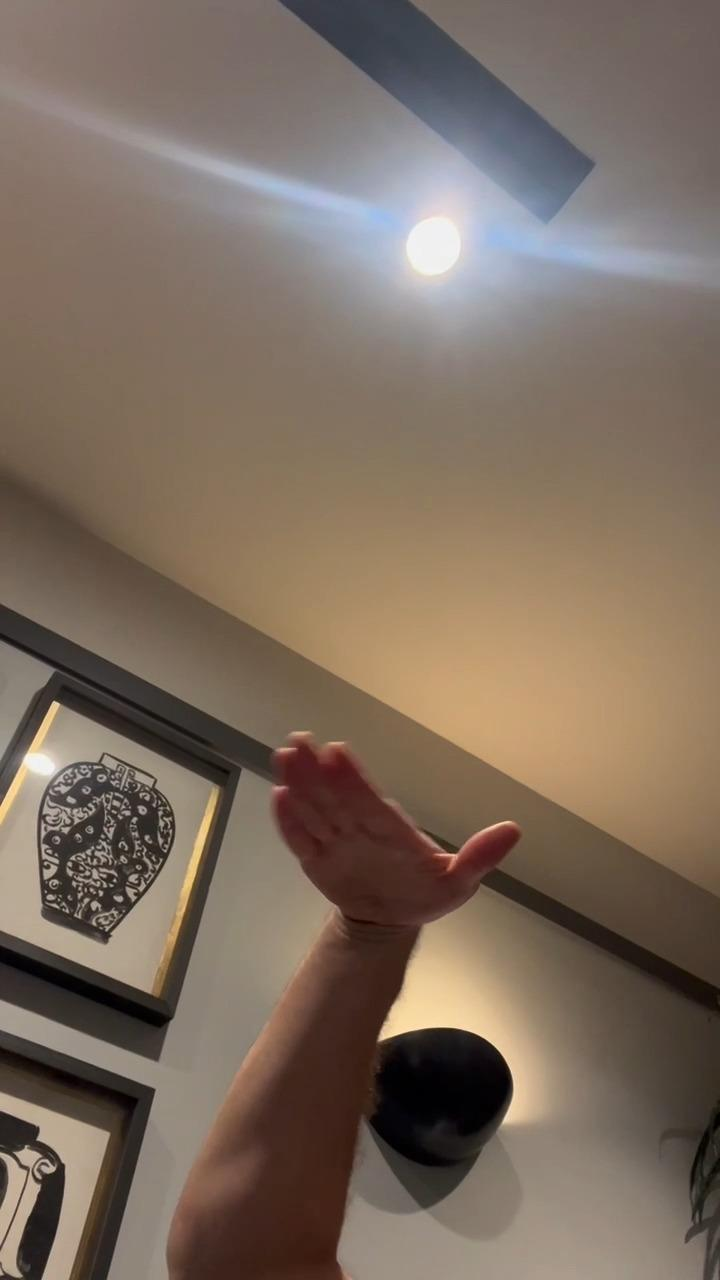Paper: (262, 726, 523, 927)
